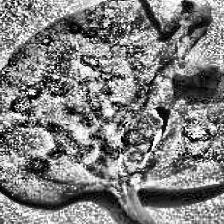disease: (0, 0, 224, 202)
